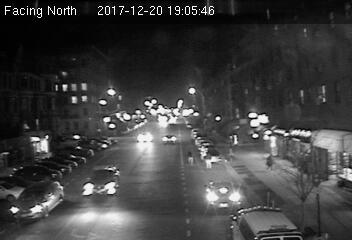car: (9, 180, 64, 221), (82, 163, 119, 197), (204, 179, 242, 211), (201, 149, 223, 164), (136, 132, 154, 142), (161, 135, 177, 144)
police: (227, 204, 307, 240)
